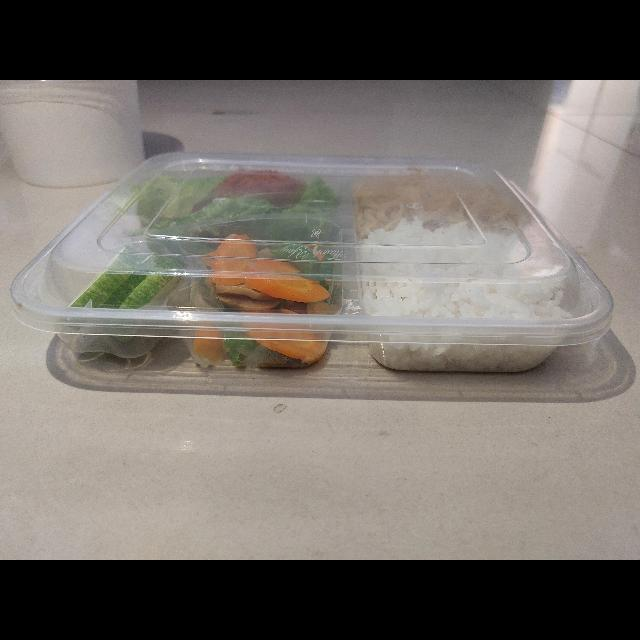bento: (13, 149, 615, 345)
